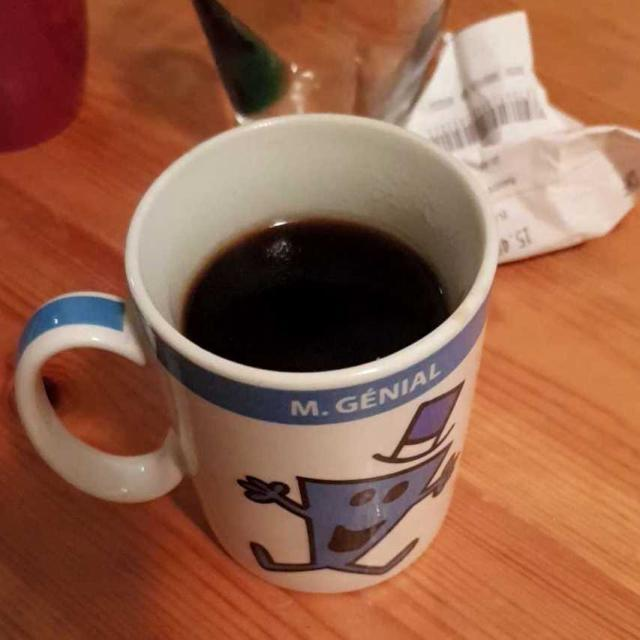coffee: (179, 218, 451, 367)
